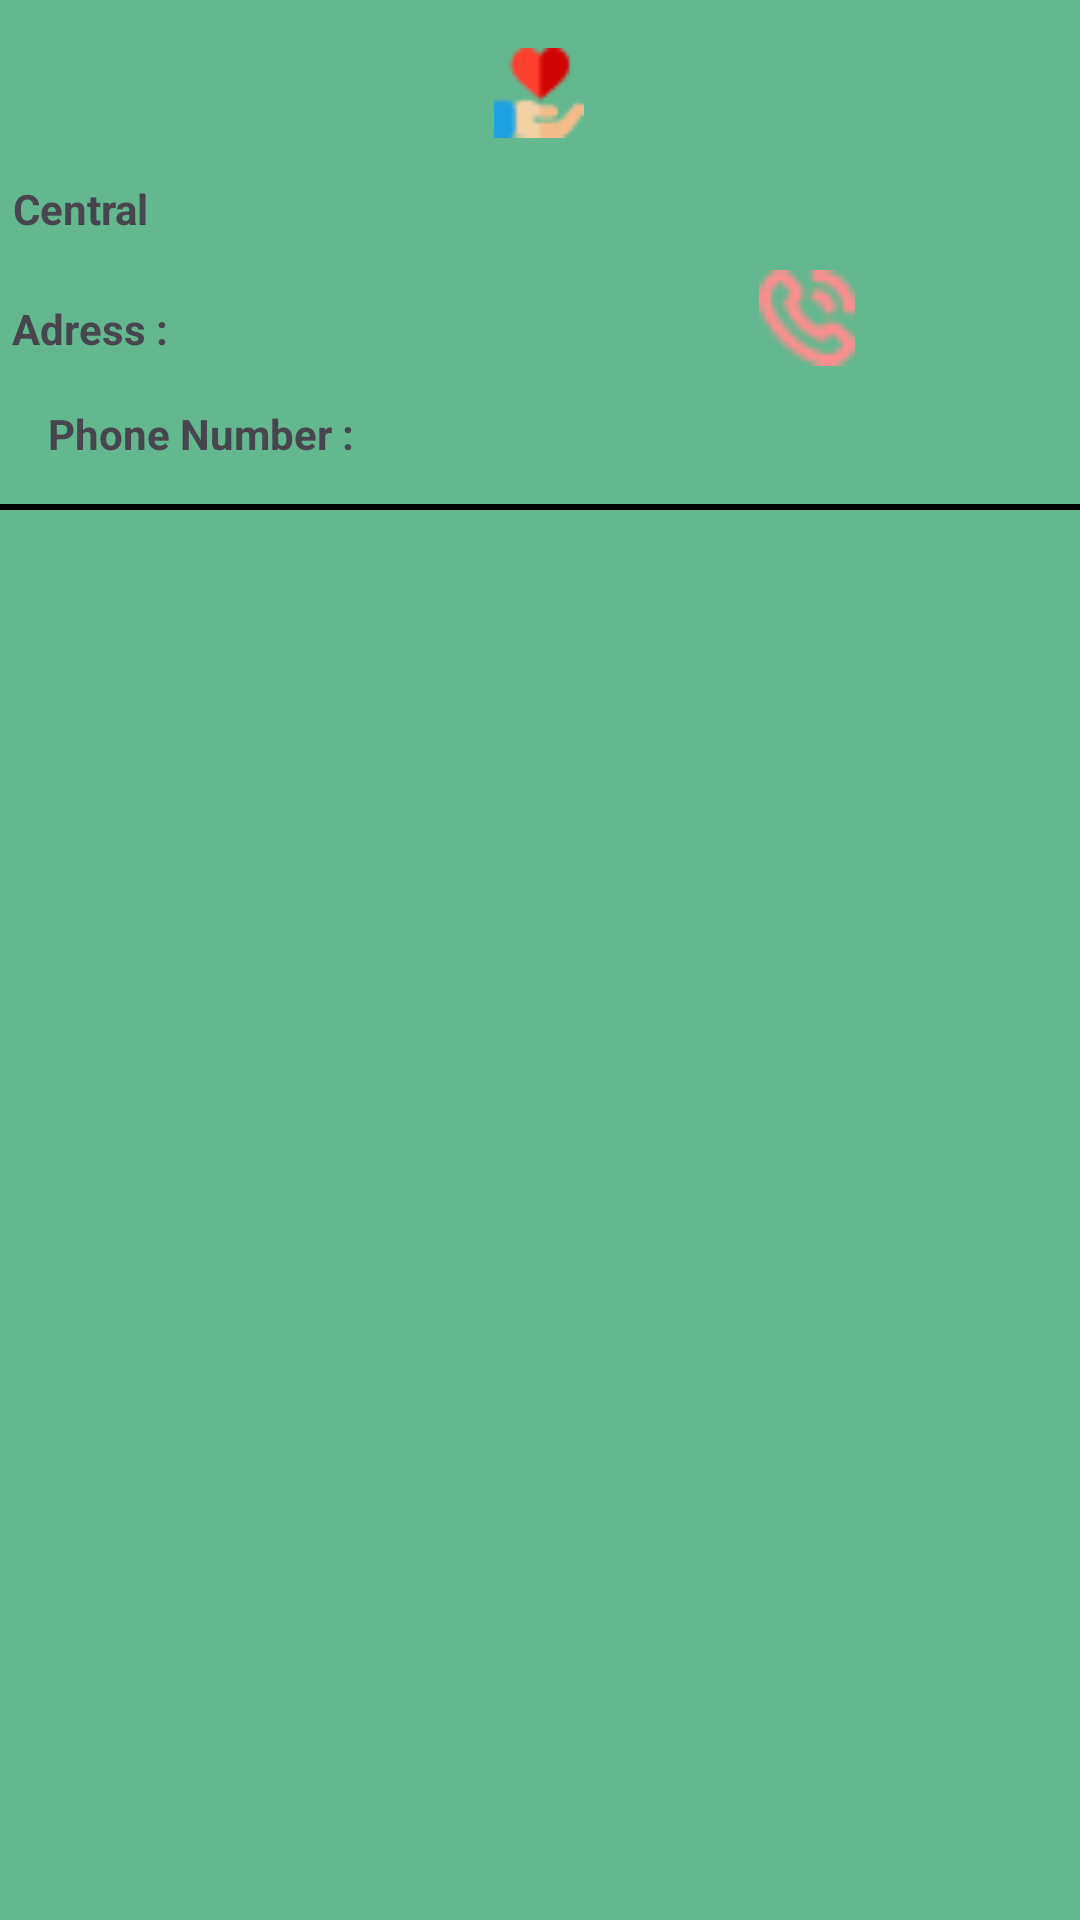

Point at icon controls on the screen. Image size 1080x1920, points as [x,y].
heart: [539,93]
phone: [807,318]
